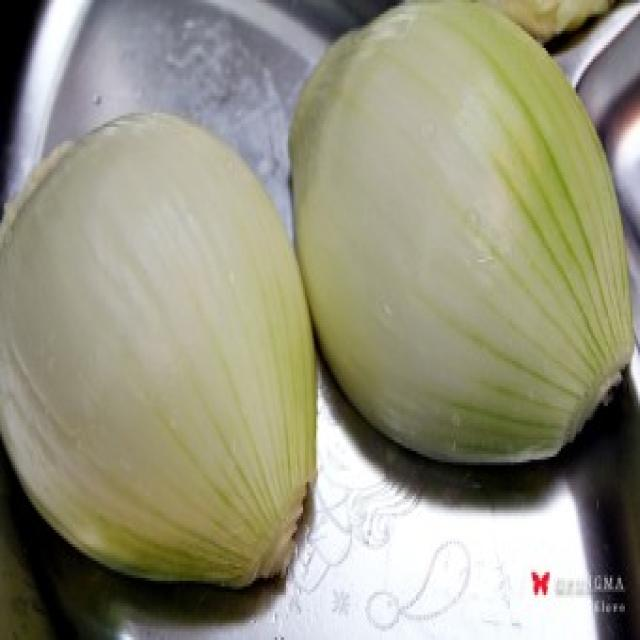onion: (289, 11, 632, 453), (7, 131, 320, 592)
